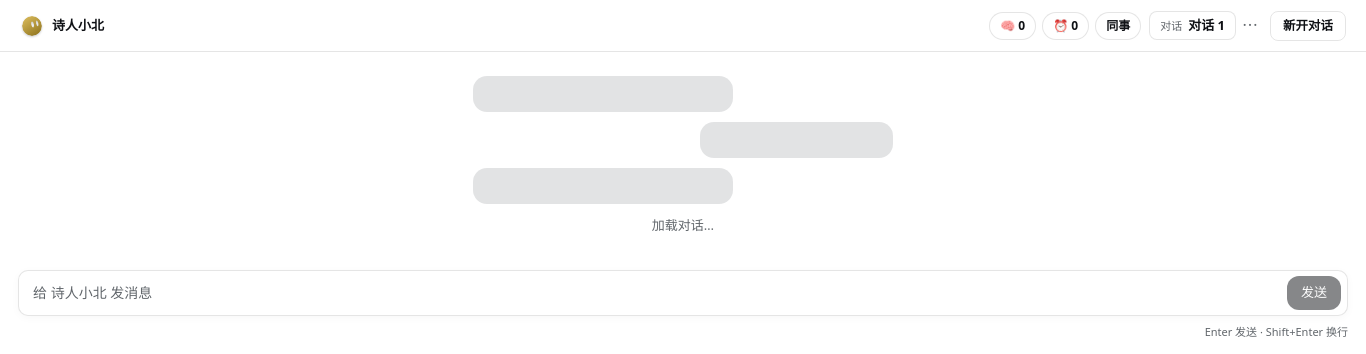
Test case: Conversation › keeps the draft and surfaces the host error code when prompt fails
Type "你是谁?" into the text box with test id "composer-input". click: (654, 292)
box: x1=25 y1=274 x2=1283 y2=310
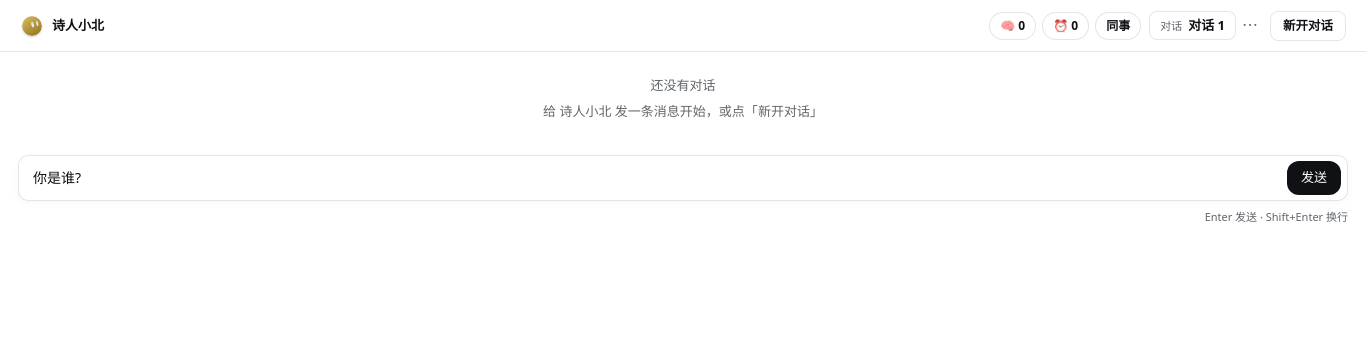
Click the button with test id "composer-send". click: (1314, 178)
box: x1=1287 y1=161 x2=1341 y2=195
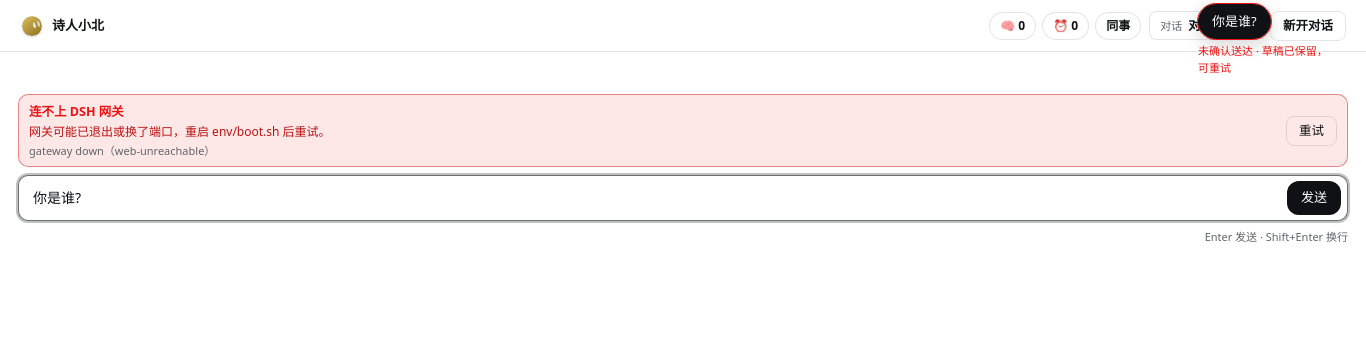
Now the message with test id "composer-error" shows "web-unreachable", box x1=115 y1=142 x2=204 y2=158
